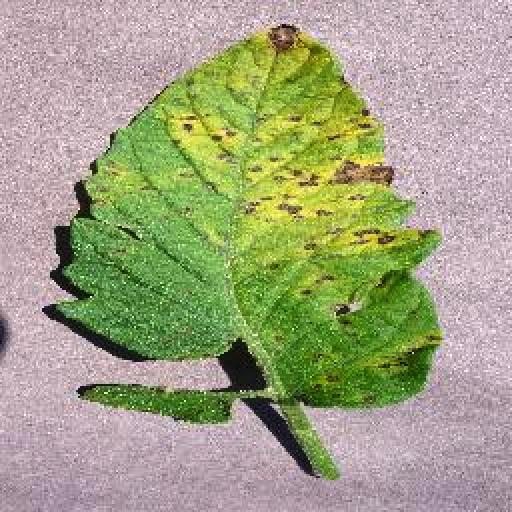disease_tomato: (47, 21, 440, 407)
